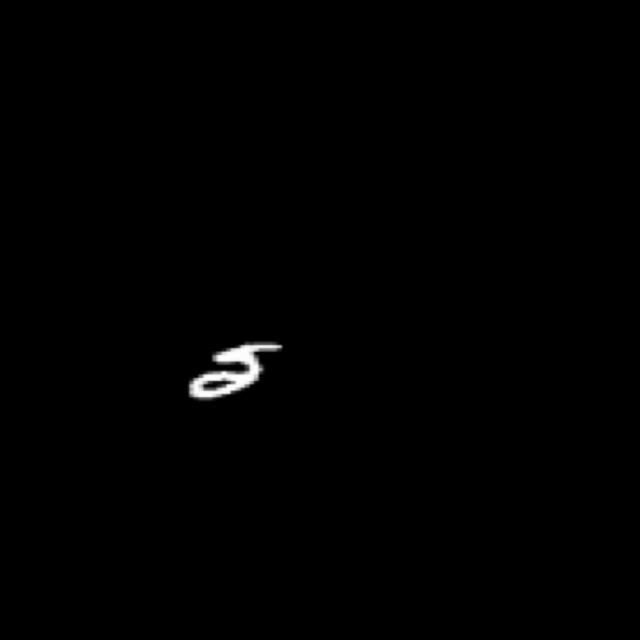five -5-: (183, 338, 297, 407)
